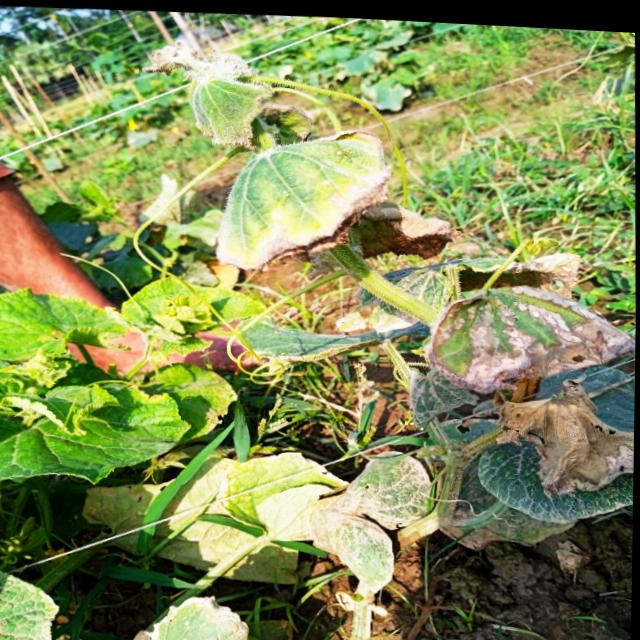Bacterial-Wilt: (492, 366, 635, 497)
